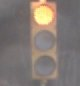Red: (26, 1, 65, 86)
